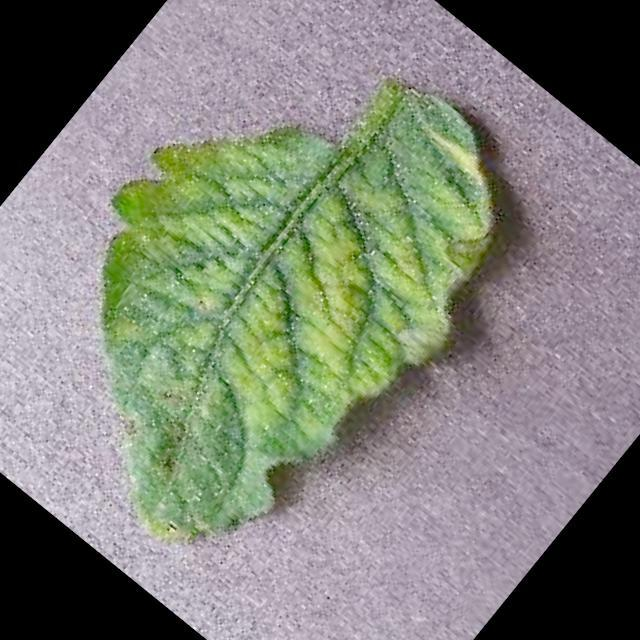Tomato mosaic virus leaf: (0, 0, 569, 617)
